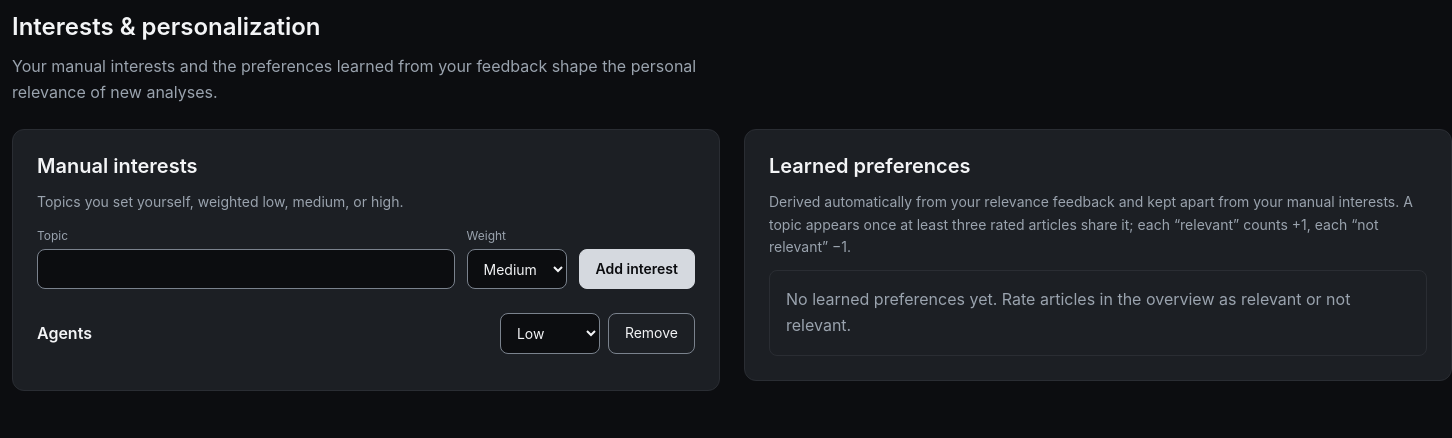
manual interests › shows the stored weight again when saving fails
Select "High" in the dropdown named "Weight of “Agents”" at (550, 333), box [500,313,600,354]
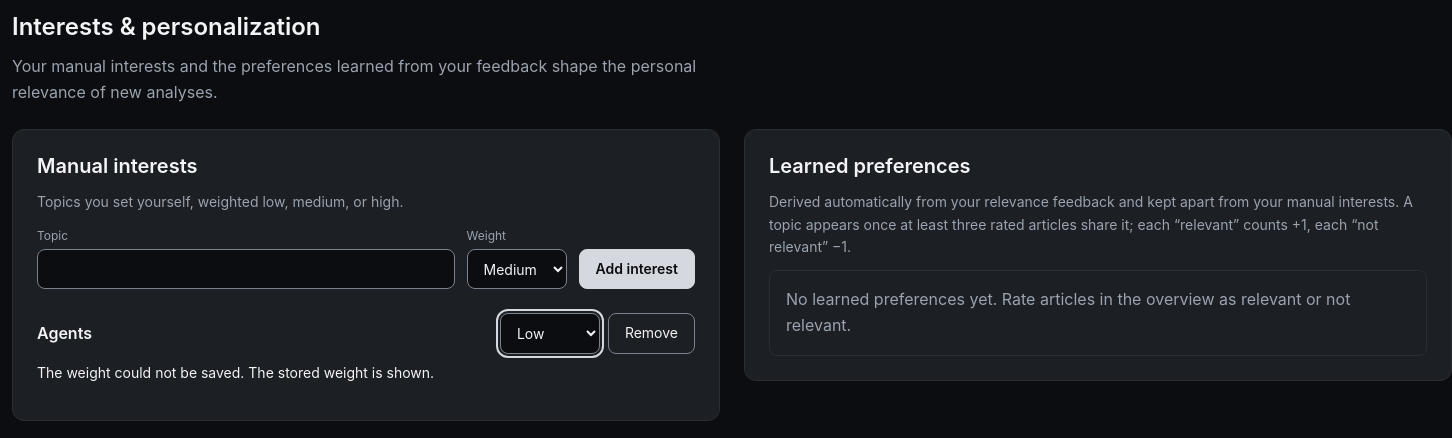
Check: the message reads "The weight could not be saved. The stored weight is shown.", box [37,364,434,380]
